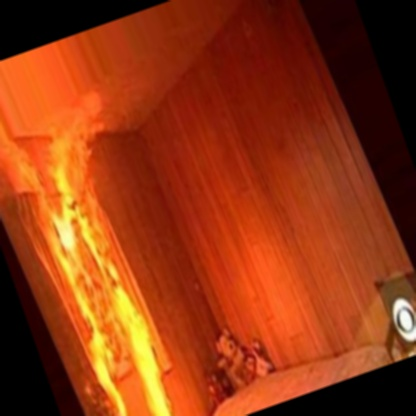fire: (0, 40, 219, 416)
